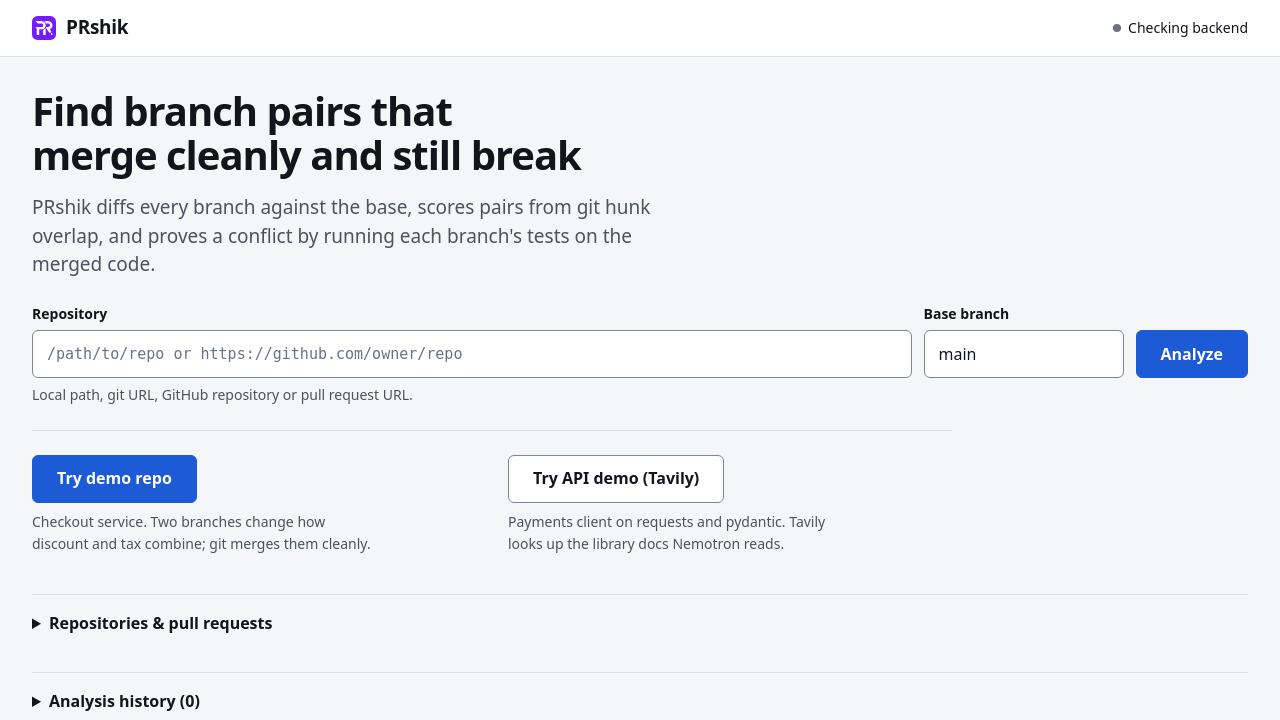
Test case: App › shows a mid-stream error from the backend
Type "/tmp/repo" into the field labelled "Repository" at point(472, 354), box 32,330 -> 912,378
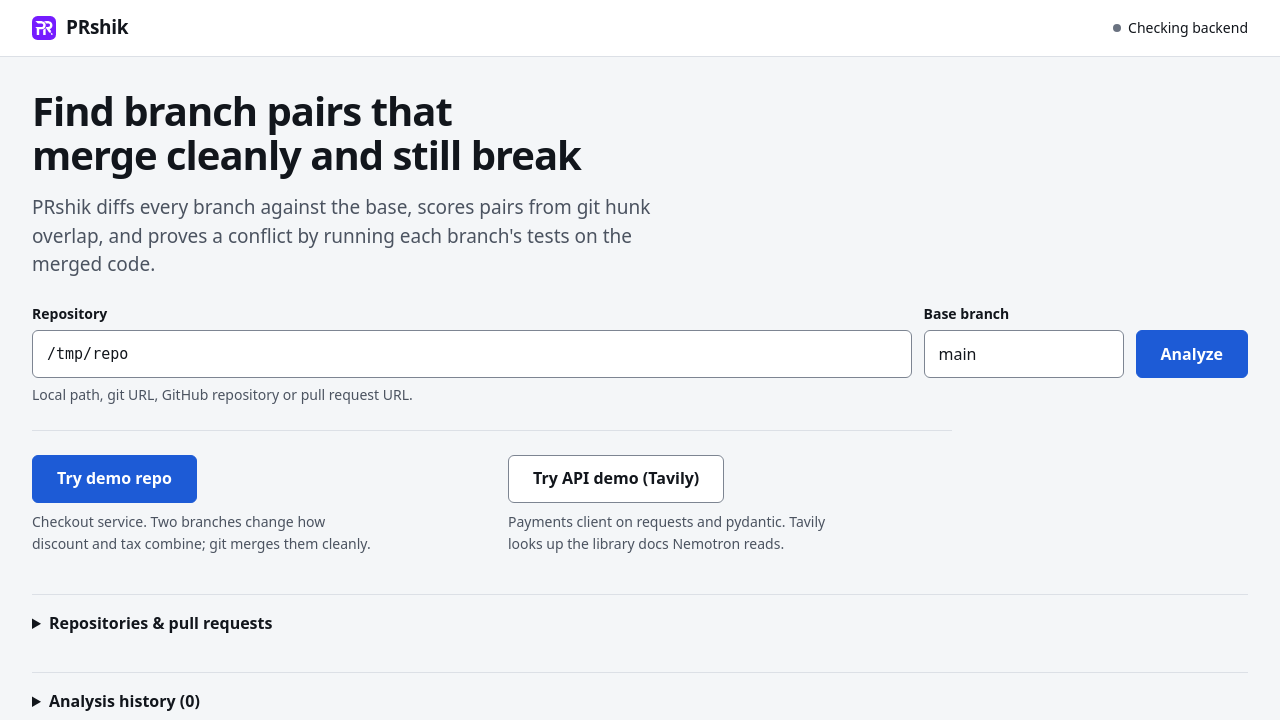
Click the button "Analyze" at point(1192, 354), box 1136,330 -> 1248,378
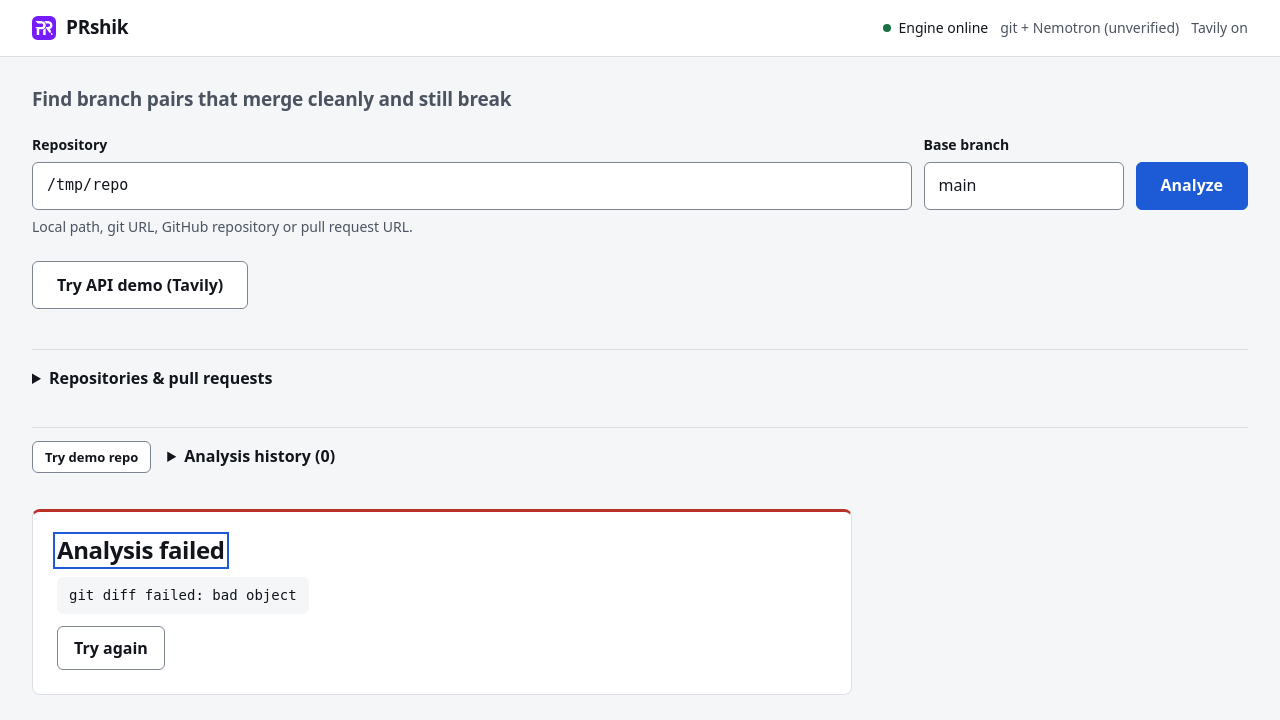
Expected: the text "git diff failed: bad object" is shown, 57,577 -> 309,614
Expected: the button "Try again" is shown, 57,626 -> 165,670
